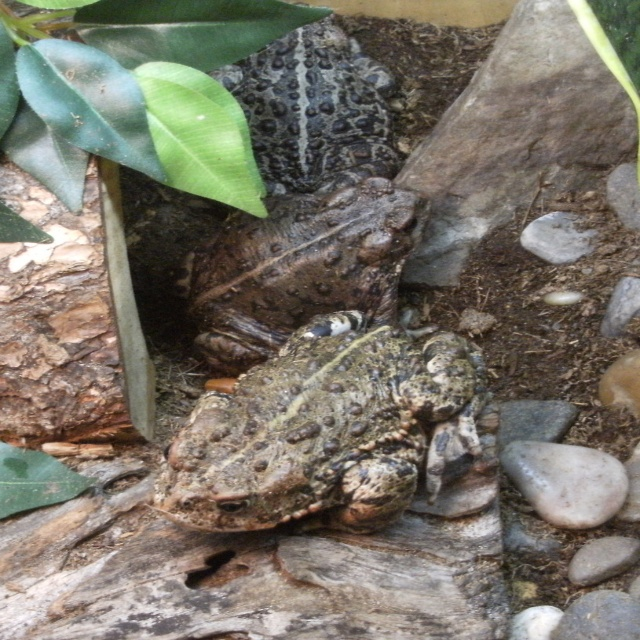Frog: (149, 307, 484, 533)
